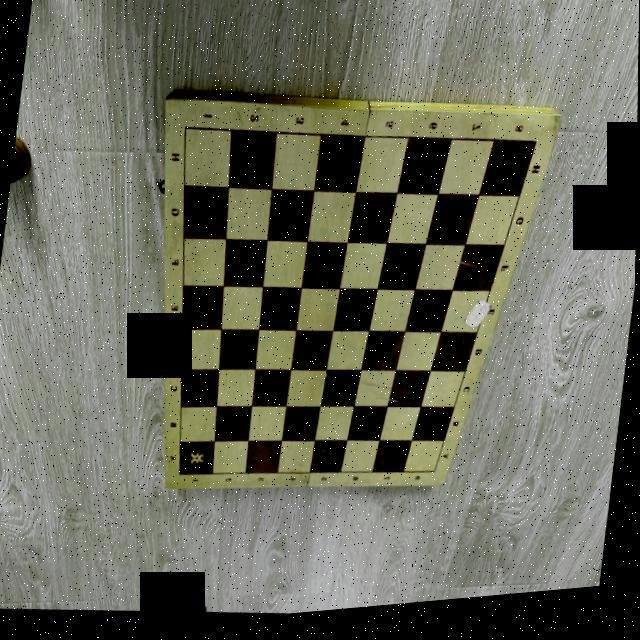chess-table-corners: (532, 145, 542, 160), (182, 126, 190, 137), (178, 473, 184, 482), (432, 477, 438, 482)
